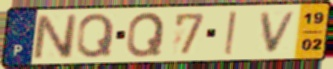7: (174, 11, 206, 56)
I: (222, 10, 238, 57)
N: (31, 13, 79, 61)
Q: (124, 11, 167, 59), (75, 12, 117, 60)
V: (259, 9, 300, 54)
